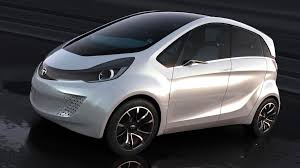Nano: (30, 10, 282, 168)
